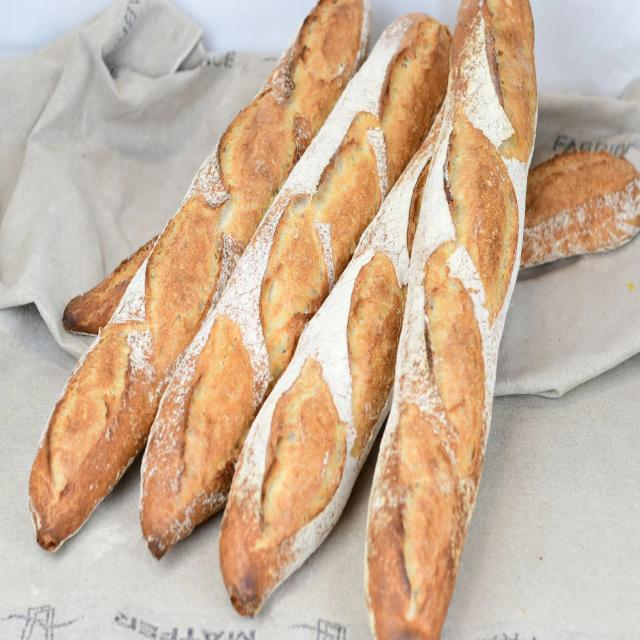Baguette: (30, 0, 370, 549), (140, 14, 450, 557), (220, 102, 444, 615), (365, 0, 537, 639), (520, 148, 640, 268), (62, 236, 159, 334)
